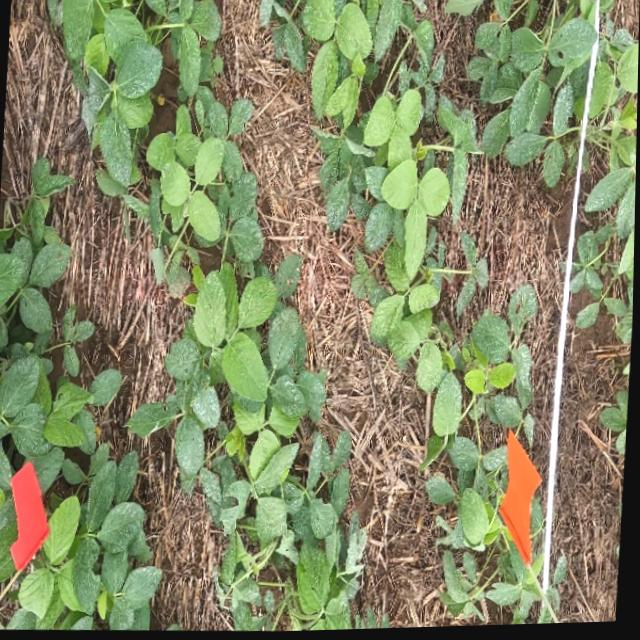soy_plant: (60, 0, 366, 633), (261, 0, 559, 628), (468, 0, 639, 347), (134, 341, 281, 632), (0, 160, 122, 483), (0, 448, 163, 630), (474, 0, 608, 164), (587, 35, 639, 287), (604, 395, 630, 457)
